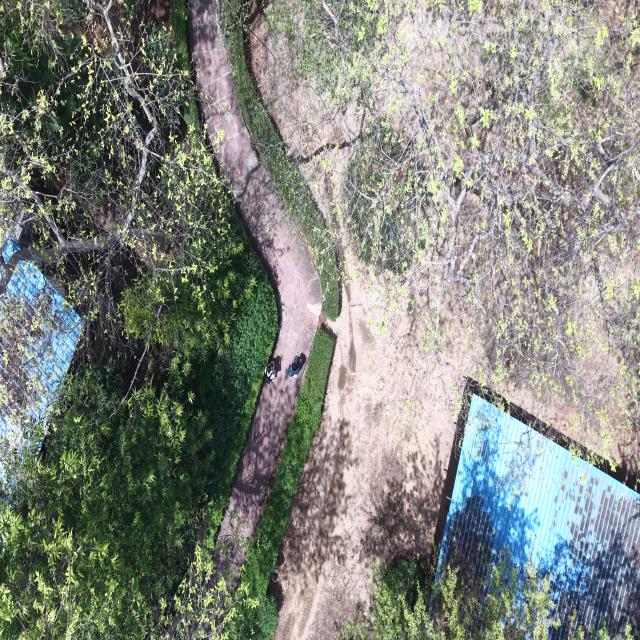DRY_AREA: (246, 0, 524, 378), (269, 247, 477, 639), (269, 249, 476, 639), (269, 251, 472, 639), (273, 251, 475, 639), (271, 248, 471, 639), (273, 251, 471, 639), (272, 251, 469, 639), (189, 0, 320, 575), (271, 252, 457, 639), (272, 252, 454, 639), (247, 11, 361, 236)
ROOFTOP_BUILDING: (436, 394, 639, 638), (437, 394, 639, 638), (0, 261, 81, 438), (1, 239, 19, 263)
VEGETATION_TREE: (0, 0, 332, 639), (0, 2, 276, 638), (265, 0, 639, 468), (266, 0, 639, 465), (0, 251, 276, 638), (0, 0, 249, 349), (0, 358, 214, 638), (171, 329, 333, 639), (222, 0, 339, 320), (238, 330, 333, 639), (337, 556, 562, 639), (0, 261, 81, 448), (336, 560, 434, 639), (169, 0, 190, 69)
